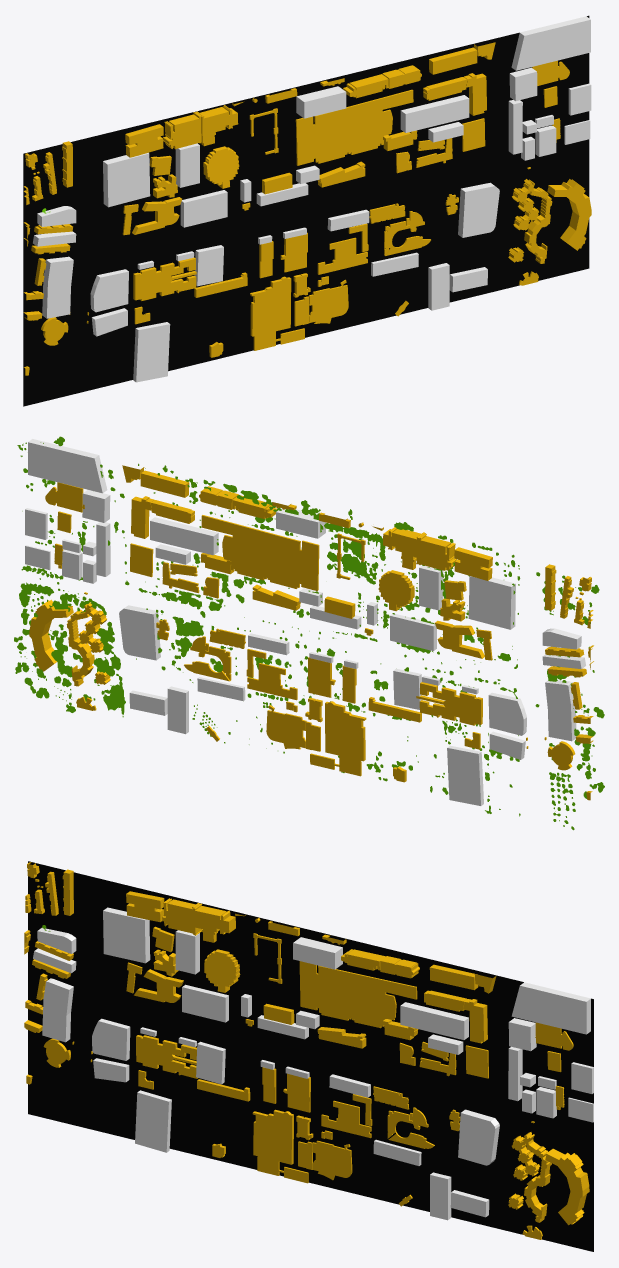
The model's file is new_low_buildings_08.glb.
3 renders of one model, top to bottom at view 1: azimuth 30°, elevation 25°; view 2: azimuth 150°, elevation 25°; view 3: azimuth 330°, elevation 25°, orthographic.
Parts seen in each view (by area): view 1: Layer 04, existing_building - Copy, new buildings; view 2: existing_building - Copy, new buildings, treesurface; view 3: Layer 04, existing_building - Copy, new buildings.
Part boxes in pixels (box(x1,y1,x2,y2)): Layer 04: box(23, 15, 589, 406); existing_building - Copy: box(23, 42, 591, 375); new buildings: box(33, 16, 591, 382); existing_building - Copy: box(29, 465, 593, 800); new buildings: box(25, 439, 585, 805); treesurface: box(14, 436, 604, 830); Layer 04: box(28, 861, 593, 1251); existing_building - Copy: box(24, 862, 589, 1239); new buildings: box(33, 907, 593, 1220).
Bounding box in the file's own units: 1035 × 458 × 24.19.
